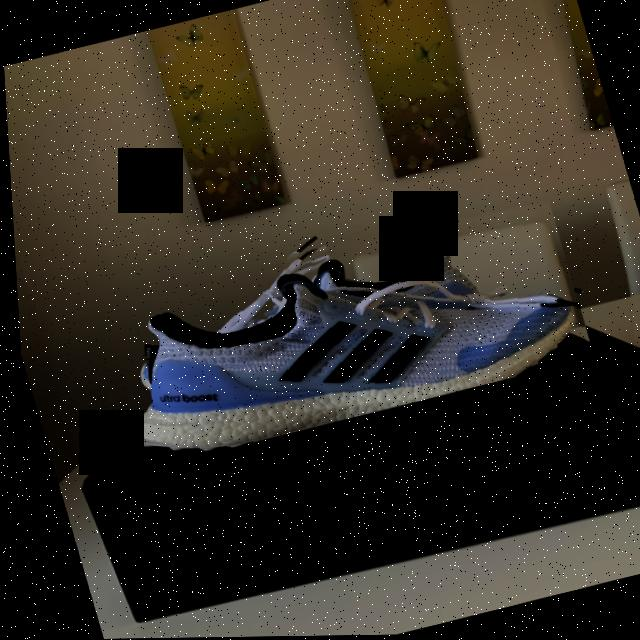shoe: (75, 183, 595, 472)
